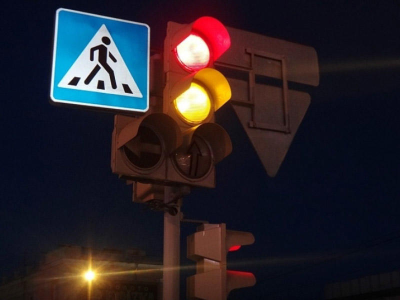crosswalk: (49, 8, 150, 110)
trafficlight_red: (169, 21, 225, 188)
